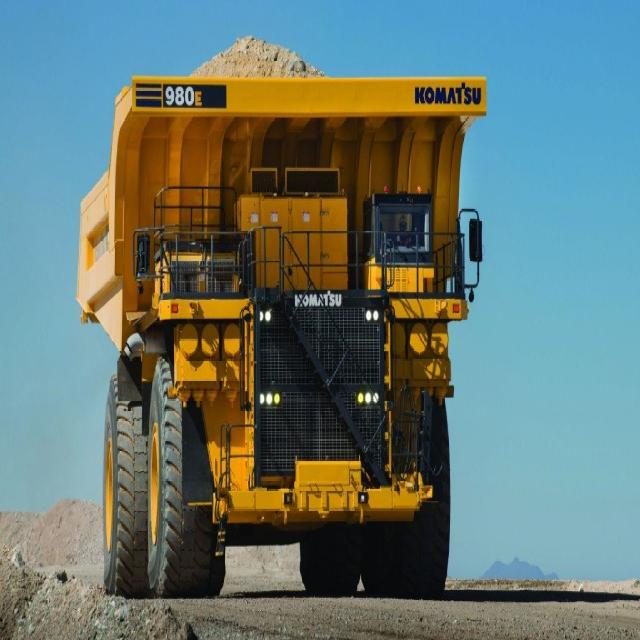dump_truck: (70, 32, 487, 600)
